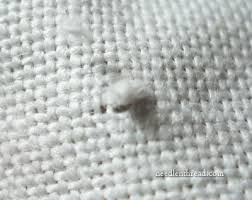Hole: (92, 69, 186, 140)
